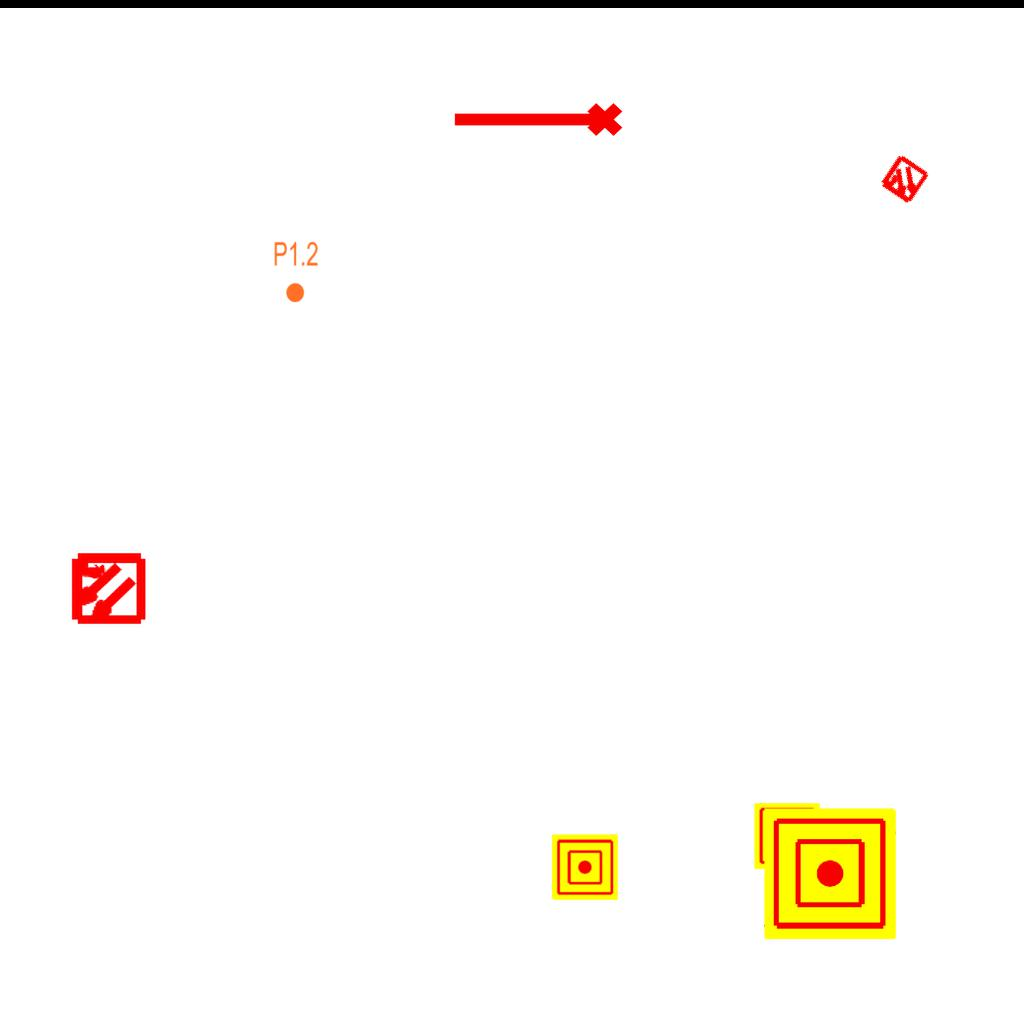ASR_Ansaugoeffnung: (449, 99, 625, 145)
Downlight_LED_Einbauleuchten_Flur: (273, 240, 319, 304)
NAM-Nichtautomatischer_Melder: (764, 808, 896, 940), (552, 834, 618, 900), (754, 803, 820, 869)
OT_Multisensormelder_(Kombination_RMO_WMD): (50, 532, 163, 645), (865, 141, 943, 219)
